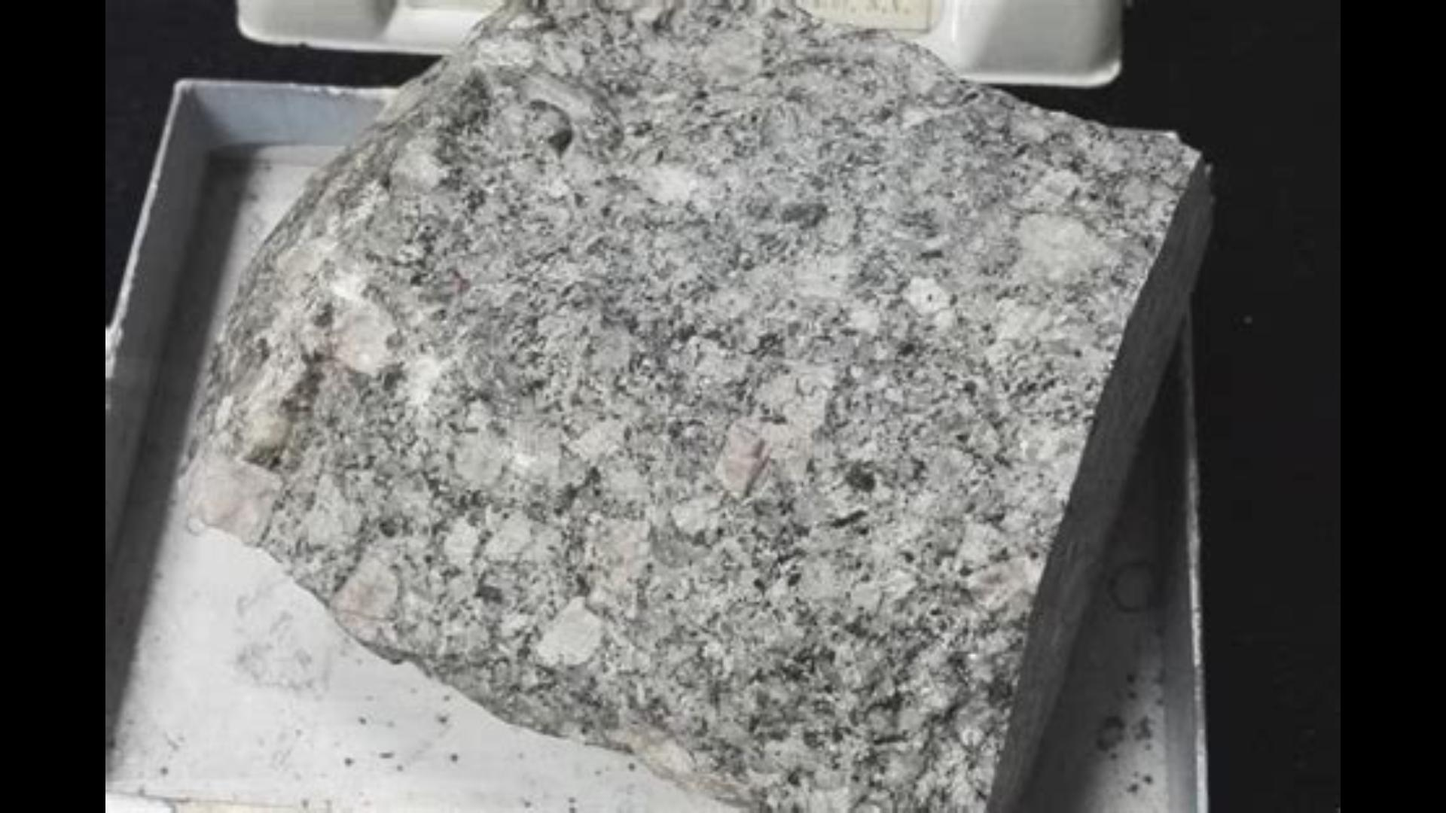rock: (194, 5, 1193, 810)
